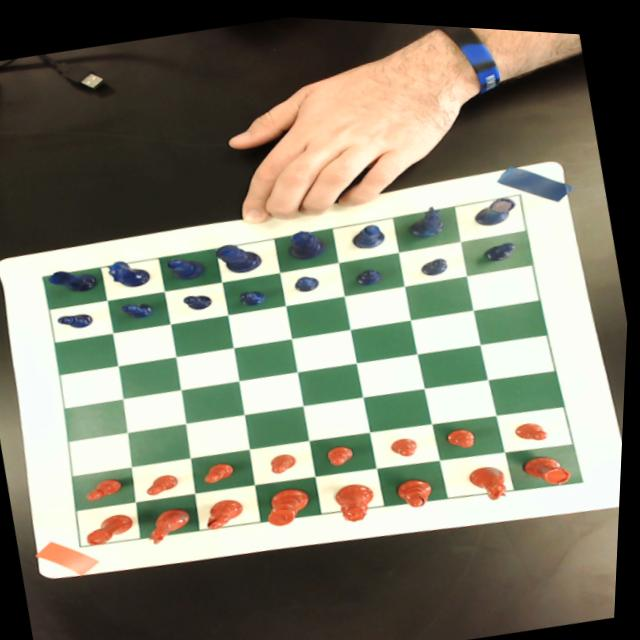B: (166, 251, 209, 282), (348, 215, 388, 248)
K: (215, 235, 265, 275)
N: (106, 253, 154, 291), (405, 197, 449, 235)
P: (481, 232, 523, 260), (56, 307, 97, 332), (120, 297, 158, 321), (182, 287, 216, 312), (419, 249, 453, 274), (353, 260, 385, 284), (292, 269, 324, 292), (237, 284, 269, 306)
Q: (285, 222, 329, 259)
R: (48, 262, 100, 298), (470, 188, 520, 224)
b: (397, 468, 443, 506), (205, 493, 251, 529)
k: (266, 480, 318, 526)
n: (144, 501, 199, 547), (467, 455, 516, 499)
p: (85, 473, 129, 502), (145, 469, 184, 496), (515, 412, 553, 438), (447, 419, 481, 446), (204, 457, 239, 483), (271, 446, 301, 472), (391, 430, 423, 454), (328, 439, 359, 463)
q: (334, 475, 383, 521)
r: (85, 507, 141, 548), (523, 443, 577, 485)
